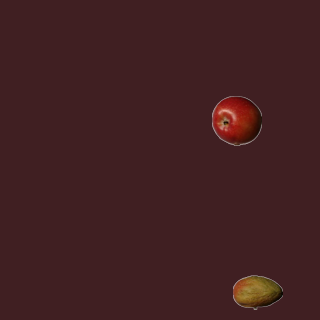Apple Braeburn: (211, 95, 261, 145)
Papaya: (232, 267, 282, 317)
